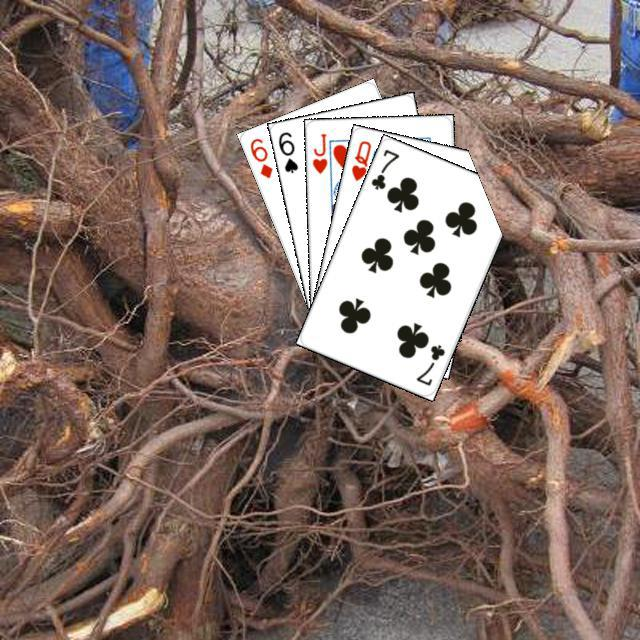6d: (245, 133, 274, 180)
6s: (273, 127, 300, 175)
7c: (411, 339, 447, 387), (366, 144, 401, 191)
Jh: (307, 128, 329, 176)
Qh: (346, 136, 373, 183)
